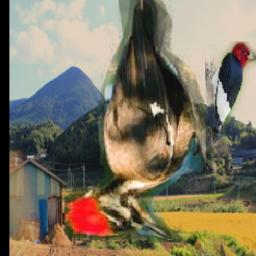Woodpecker: (63, 0, 210, 244), (205, 43, 256, 147)
